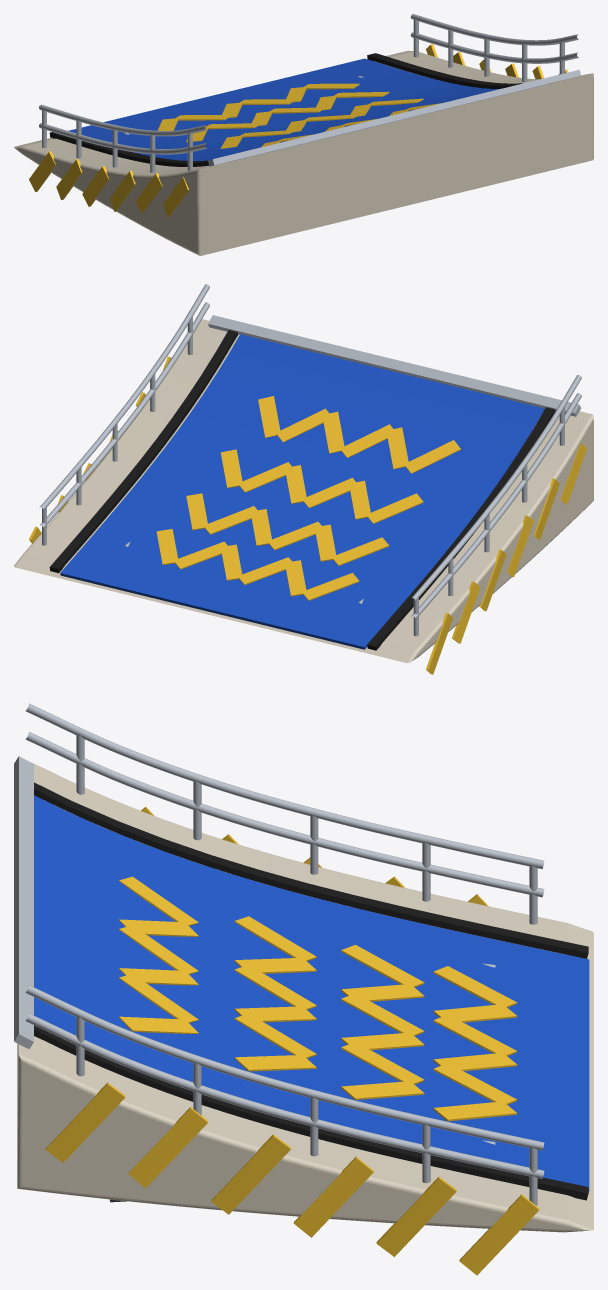
The model's file is corporate-office-jump-ramp.glb.
3 views of the same model, one above another, from view 1: azimuth 30°, elevation 25°; view 2: azimuth 150°, elevation 25°; view 3: azimuth 270°, elevation 25° (orthographic). The views are drawn at different scales.
Parts seen in each view (by area): view 1: RampBody, TrackSurface, JumpChevrons, LeftSafetyStripes, RearGuardBar, CorporateOfficeJumpRamp, LeftTopRail, RightTopRail, RightMidRail, LeftMidRail, LeftPosts, RightPosts (+1 smaller); view 2: TrackSurface, RampBody, JumpChevrons, CorporateOfficeJumpRamp, RearGuardBar, LeftSafetyStripes, RightTopRail, LeftTopRail, RightMidRail, LeftMidRail, LeftPosts, RightPosts; view 3: TrackSurface, RampBody, JumpChevrons, CorporateOfficeJumpRamp, RightSafetyStripes, RearGuardBar, LeftTopRail, RightTopRail, RightMidRail, LeftMidRail, LeftPosts, RightPosts.
Part boxes in pixels (x1=…): RampBody: x1=14, y1=50, x2=593, y2=255; TrackSurface: x1=68, y1=58, x2=536, y2=161; JumpChevrons: x1=158, y1=83, x2=440, y2=148; LeftSafetyStripes: x1=29, y1=151, x2=188, y2=217; RearGuardBar: x1=208, y1=69, x2=580, y2=166; CorporateOfficeJumpRamp: x1=49, y1=53, x2=554, y2=166; LeftTopRail: x1=39, y1=104, x2=206, y2=136; RightTopRail: x1=410, y1=14, x2=578, y2=45; RightMidRail: x1=410, y1=32, x2=579, y2=63; LeftMidRail: x1=39, y1=123, x2=207, y2=154; LeftPosts: x1=42, y1=110, x2=192, y2=172; RightPosts: x1=413, y1=19, x2=564, y2=81; TrackSurface: x1=60, y1=334, x2=544, y2=649; RampBody: x1=14, y1=319, x2=593, y2=663; JumpChevrons: x1=156, y1=396, x2=460, y2=600; CorporateOfficeJumpRamp: x1=49, y1=330, x2=555, y2=650; RearGuardBar: x1=208, y1=315, x2=581, y2=416; LeftSafetyStripes: x1=426, y1=443, x2=587, y2=674; RightTopRail: x1=39, y1=284, x2=209, y2=510; LeftTopRail: x1=411, y1=375, x2=581, y2=600; RightMidRail: x1=40, y1=302, x2=209, y2=528; LeftMidRail: x1=411, y1=393, x2=581, y2=619; LeftPosts: x1=413, y1=407, x2=564, y2=636; RightPosts: x1=42, y1=316, x2=192, y2=545; TrackSurface: x1=34, y1=795, x2=589, y2=1192; RampBody: x1=17, y1=762, x2=593, y2=1232; JumpChevrons: x1=119, y1=876, x2=517, y2=1121; CorporateOfficeJumpRamp: x1=34, y1=782, x2=588, y2=1200; RightSafetyStripes: x1=45, y1=1082, x2=539, y2=1275; RearGuardBar: x1=14, y1=756, x2=33, y2=1048; LeftTopRail: x1=25, y1=703, x2=544, y2=869; RightTopRail: x1=25, y1=985, x2=544, y2=1150; RightMidRail: x1=25, y1=1013, x2=544, y2=1178; LeftMidRail: x1=25, y1=732, x2=544, y2=897; LeftPosts: x1=76, y1=735, x2=537, y2=924; RightPosts: x1=76, y1=1017, x2=537, y2=1205.
Size of the model in its own units: 7.35 by 3.17 by 5.95.
